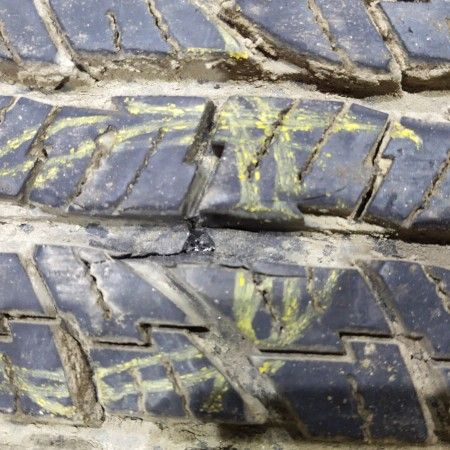tr: (98, 214, 218, 268)
